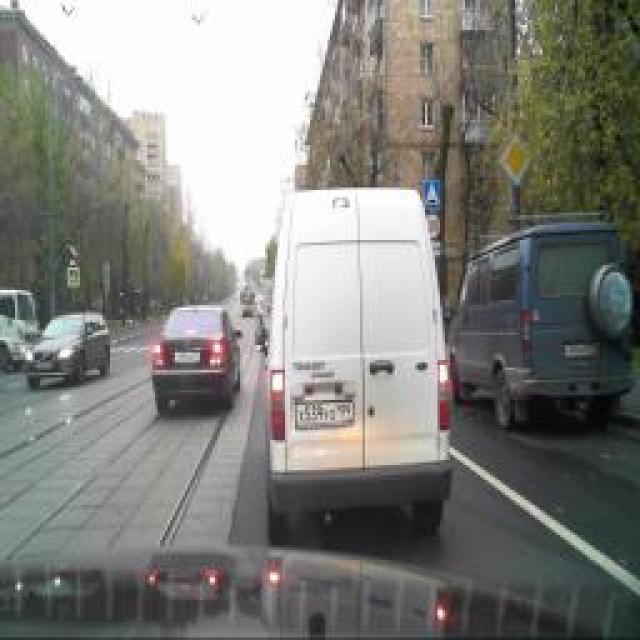sign: (501, 132, 531, 188)
